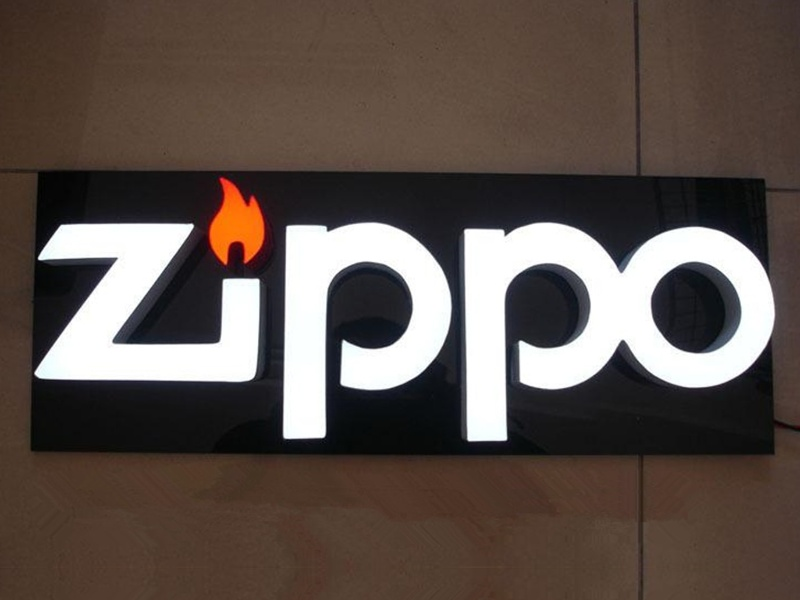letter: (17, 183, 282, 394), (270, 206, 456, 440), (442, 208, 620, 451), (630, 220, 771, 410)
